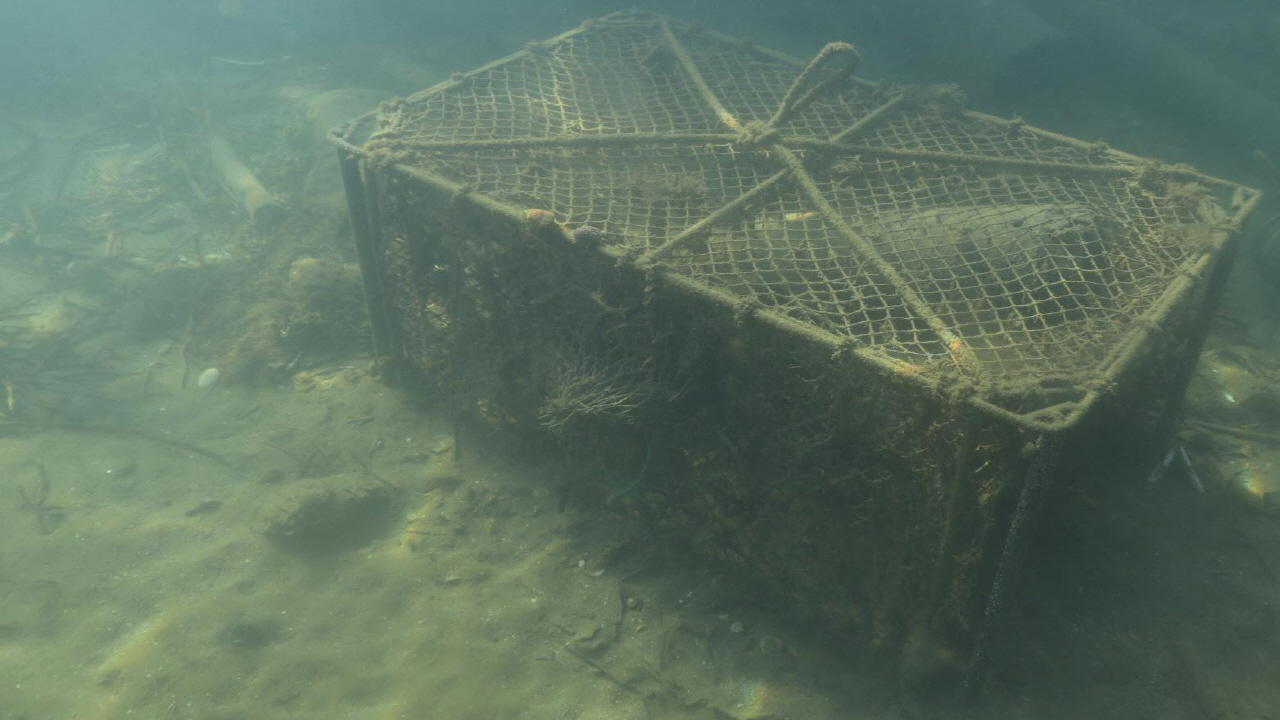bundle of ropes: (734, 39, 860, 145)
rectangular fish trap: (325, 6, 1265, 707)
